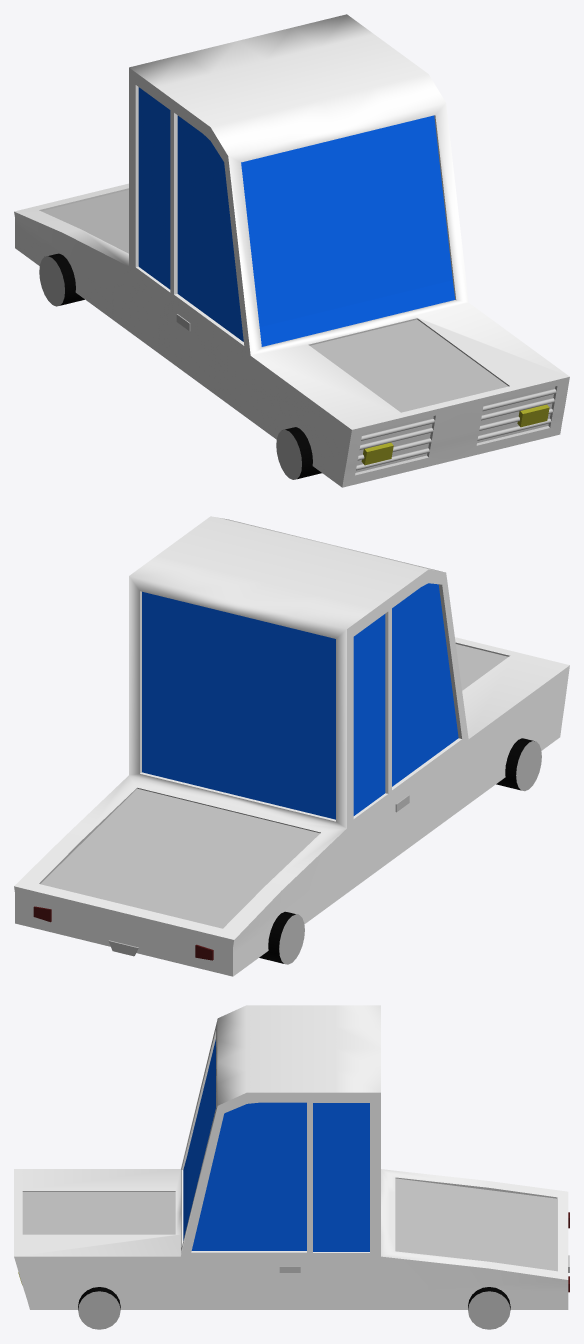
File: grandpa_car.obj
The picture shows the model from 3 angles, top to bottom: view 1: azimuth 30°, elevation 25°; view 2: azimuth 150°, elevation 25°; view 3: azimuth 270°, elevation 25°; orthographic projection. The views are drawn at different scales.
Visible parts, largest first — view 1: pCylinder22; view 2: pCylinder22; view 3: pCylinder22.
Boxes of the visible parts, x1,y1,x2,y2 form: pCylinder22: (14,14,569,487); pCylinder22: (14,516,569,976); pCylinder22: (14,1005,569,1329).
Bounding box in the file's own units: 4 × 4.51 × 9.77.
